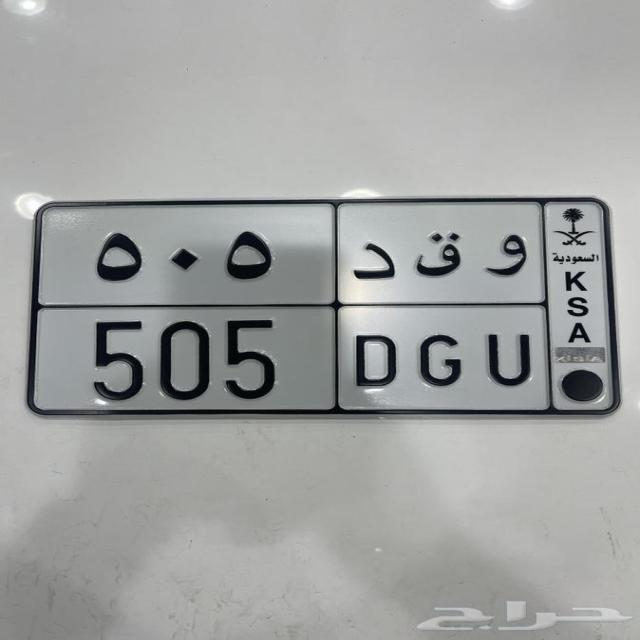license_plate: (27, 300, 557, 418)
